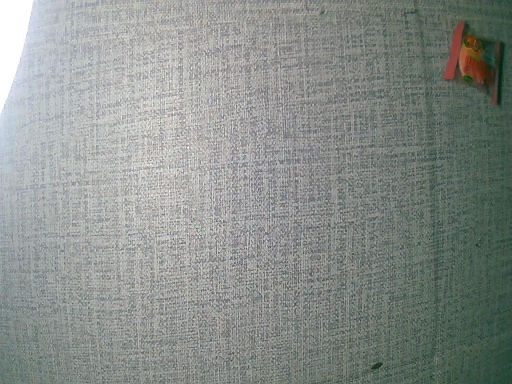plastic: (438, 16, 511, 109)
